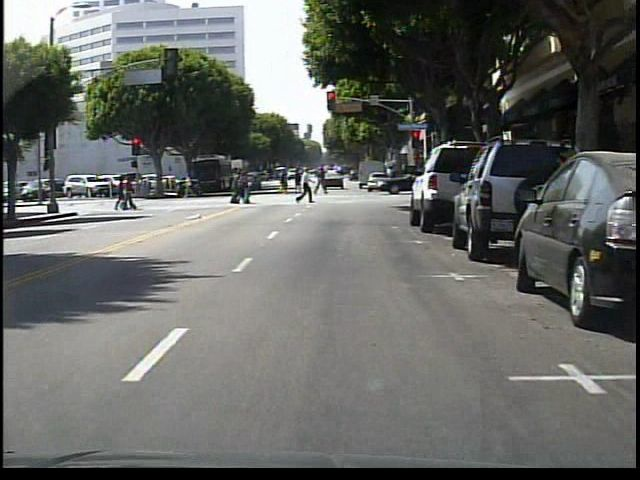person: (295, 167, 316, 205), (180, 169, 199, 199), (312, 166, 330, 196)
